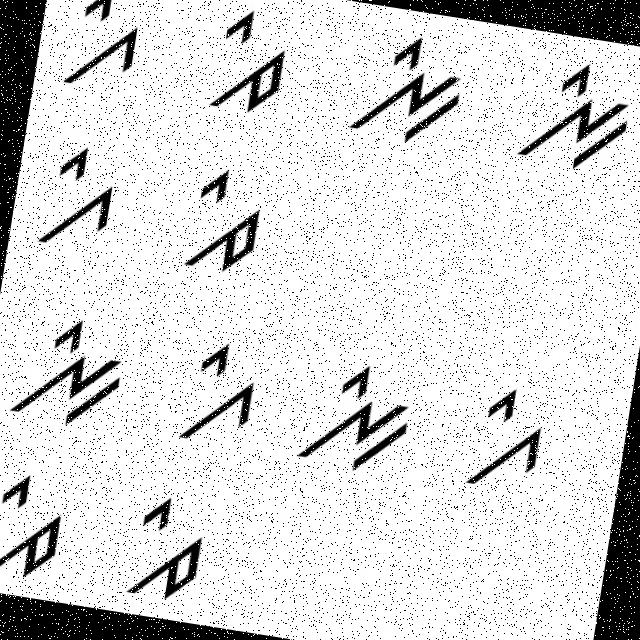gi: (452, 376, 560, 501), (170, 338, 270, 461), (29, 137, 126, 260), (50, 0, 151, 97)
ngi: (2, 305, 136, 437), (291, 356, 423, 489), (339, 26, 476, 152), (505, 50, 639, 178)
ti: (107, 488, 224, 612), (192, 1, 304, 124), (174, 160, 280, 284), (0, 464, 83, 590)
